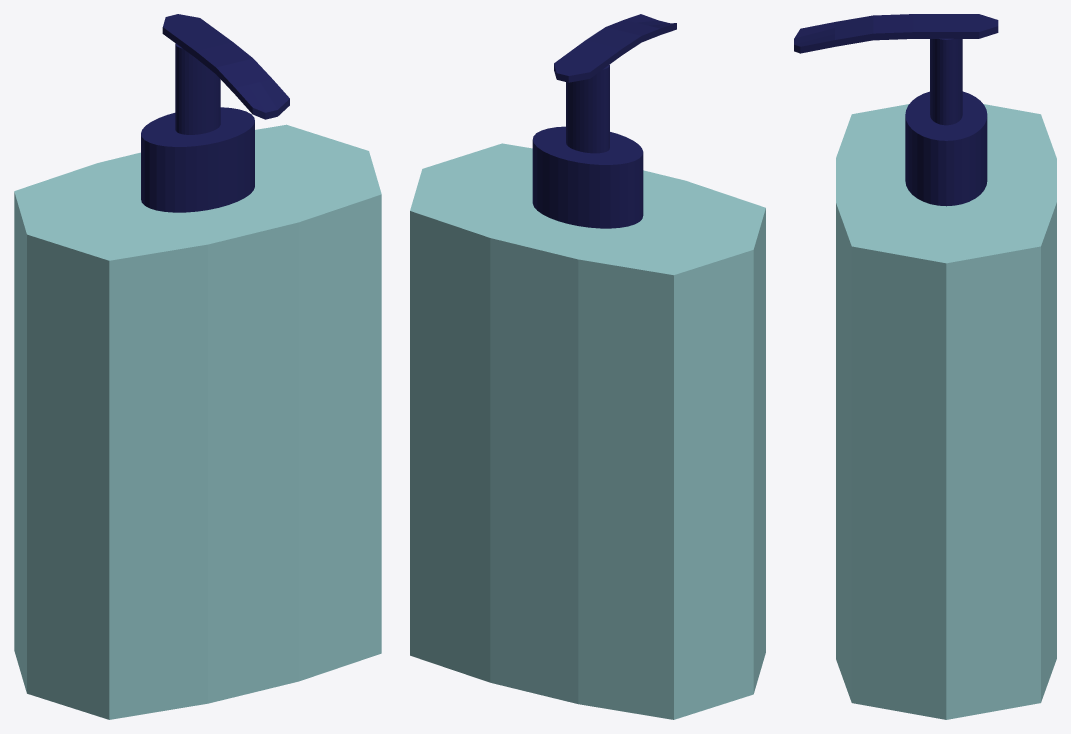
The model's file is Hand Sanitizer.fbx.
The picture shows the model from 3 angles, left to right: view 1: azimuth 30°, elevation 25°; view 2: azimuth 150°, elevation 25°; view 3: azimuth 270°, elevation 25°; orthographic projection. The views are drawn at different scales.
Visible parts, largest first — view 1: Cube.001; view 2: Cube.001; view 3: Cube.001.
Part boxes in pixels (left/top/right/bottom): Cube.001: left=14, top=14, right=381, bottom=719; Cube.001: left=410, top=14, right=765, bottom=719; Cube.001: left=794, top=14, right=1056, bottom=719.
Bounding box in the file's own units: 156 × 269 × 104.
